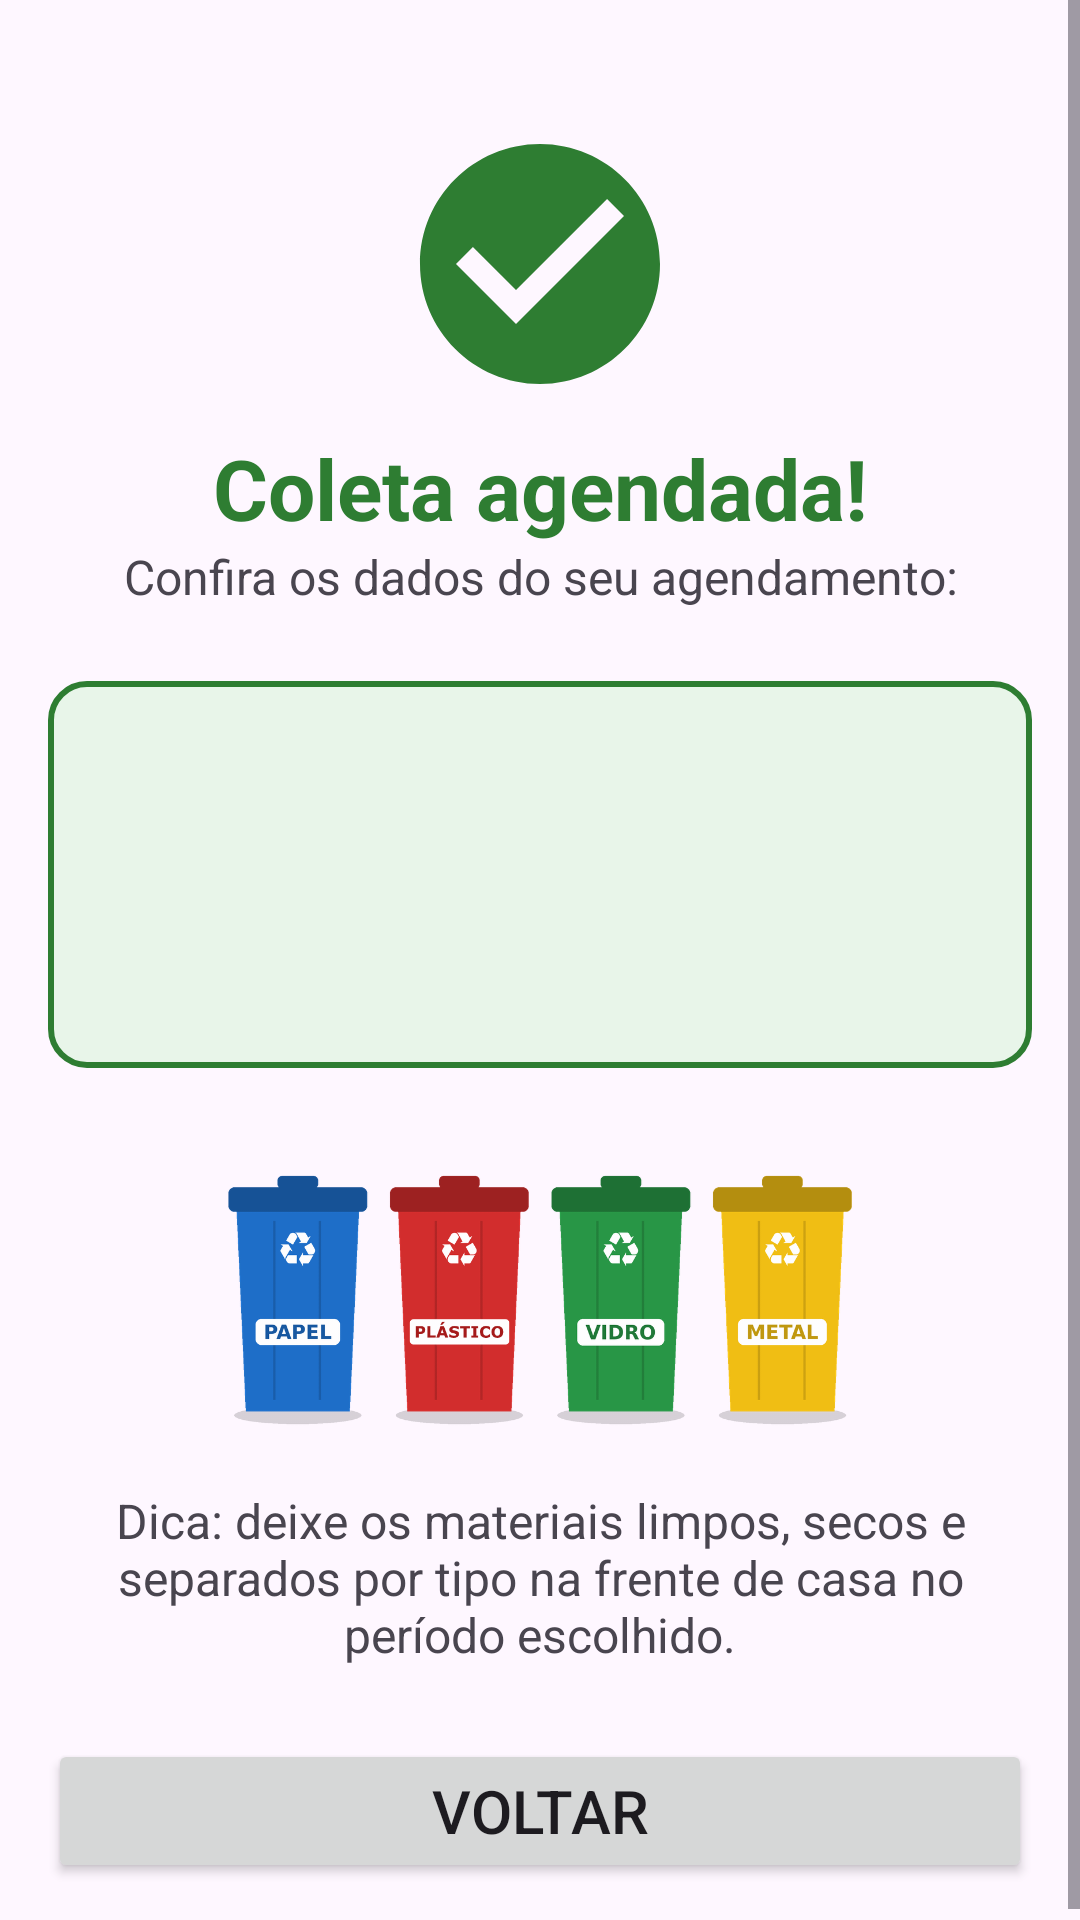

Icons on this 1080×1920 Android screen, each with the point to tap as point (x, y):
Coleta confirmada: point (540, 264)
